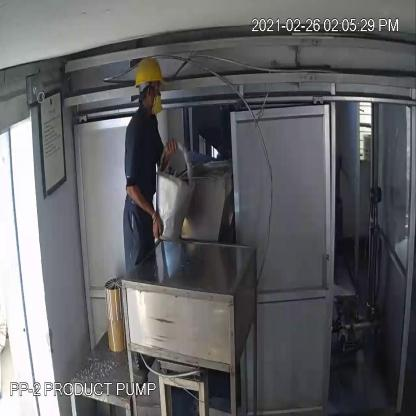helmet: (131, 55, 170, 104)
